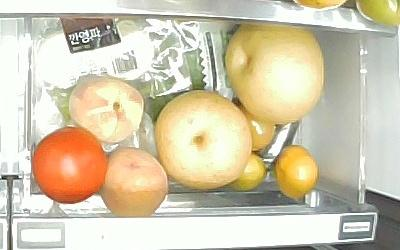peach: (66, 75, 145, 146), (98, 145, 170, 218)
pear: (222, 19, 327, 125), (155, 89, 250, 191)
tangerine: (274, 145, 319, 201), (230, 150, 268, 193)
tomato: (33, 125, 108, 204)
